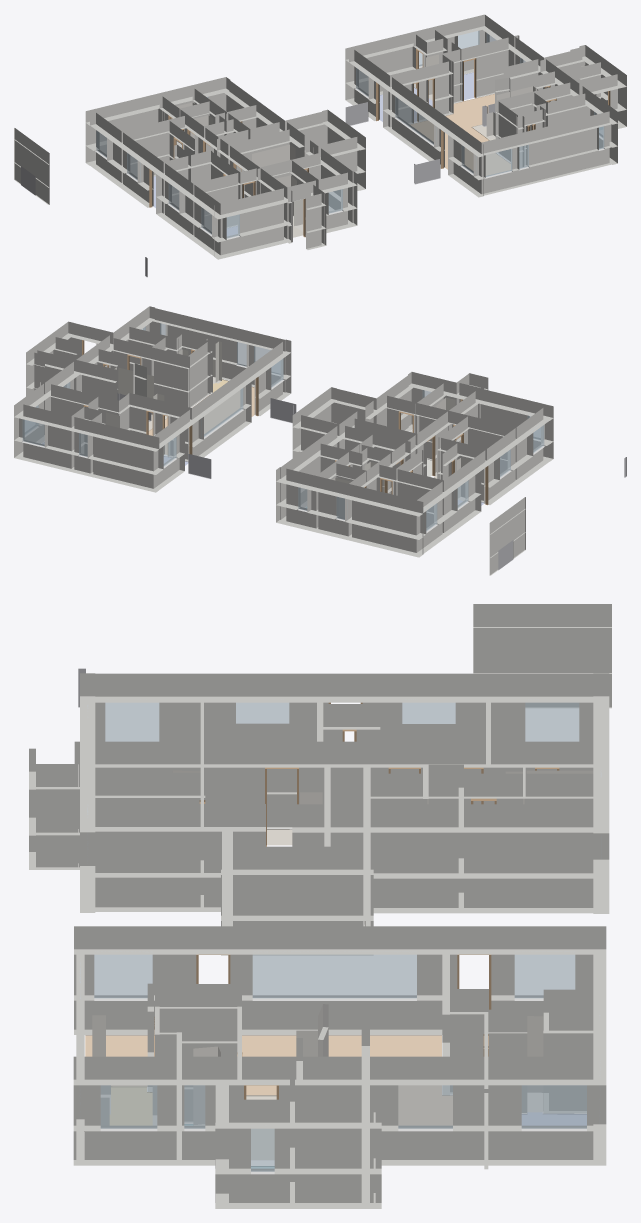
3 renders of one model, top to bottom at view 1: azimuth 30°, elevation 25°; view 2: azimuth 150°, elevation 25°; view 3: azimuth 270°, elevation 25°, orthographic. The views are drawn at different scales.
Parts seen in each view (by area): view 1: walls, floor_9_Living_Room, railings, window_17, furniture_6_closet, window_30, floor_3_Bed_Room; view 2: walls, railings, floor_9_Living_Room, window_17, furniture_7_closet, window_2; view 3: walls, window_17, floor_9_Living_Room, window_31, window_5, window_0, window_8, window_12, window_3, window_4, floor_11_Kitchen, window_1 (+6 smaller).
Part boxes in pixels (x1,y1,x2,y2): walls: [14, 14, 626, 259]; floor_9_Living_Room: [410, 93, 510, 175]; railings: [21, 102, 495, 277]; window_17: [395, 96, 433, 144]; furniture_6_closet: [252, 144, 295, 167]; window_30: [485, 149, 512, 176]; floor_3_Bed_Room: [380, 72, 473, 121]; walls: [14, 306, 553, 575]; railings: [117, 393, 626, 570]; floor_9_Living_Room: [148, 386, 254, 454]; window_17: [201, 388, 243, 438]; furniture_7_closet: [114, 367, 153, 416]; window_2: [22, 419, 44, 446]; walls: [29, 604, 611, 1208]; window_17: [252, 954, 416, 998]; floor_9_Living_Room: [85, 1035, 452, 1125]; window_31: [521, 1085, 586, 1128]; window_5: [94, 954, 152, 998]; window_0: [100, 1085, 157, 1128]; window_8: [514, 954, 575, 998]; window_12: [398, 1085, 452, 1128]; window_3: [105, 702, 159, 741]; window_4: [525, 702, 579, 741]; floor_11_Kitchen: [110, 1086, 152, 1125]; window_1: [236, 702, 289, 723].
Size of the model in its own units: 28.1 by 2.72 by 13.79.
